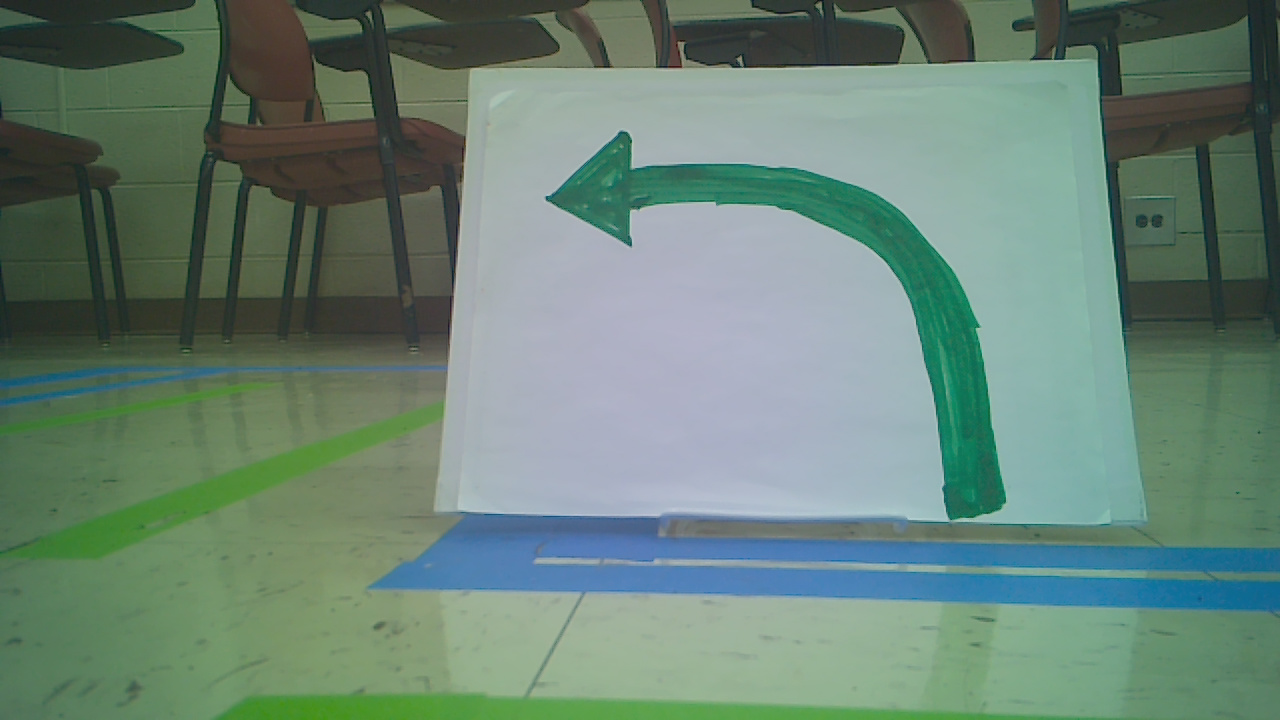greenline: (20, 397, 442, 560)
left: (538, 125, 1019, 525)
